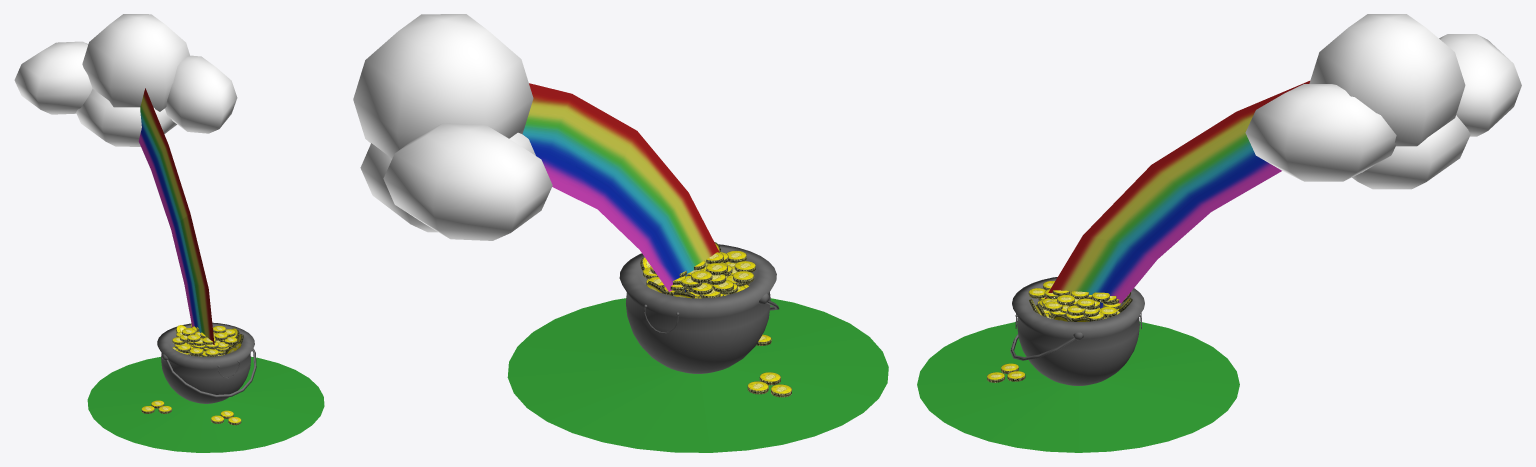
The model's file is GoldPotRainbow.glb.
3 views of the same model, side by side, from view 1: azimuth 30°, elevation 25°; view 2: azimuth 150°, elevation 25°; view 3: azimuth 270°, elevation 25° (orthographic). The views are drawn at different scales.
Visible parts, largest first — view 1: Cloud, Cone, Rainbow, Pot, Big Handle; view 2: Cone, Cloud, Rainbow, Pot; view 3: Cloud, Cone, Rainbow, Pot.
Part boxes in pixels (x1,y1,x2,y2): Cloud: (14,14,237,146); Cone: (87,356,324,452); Rainbow: (138,88,214,349); Pot: (157,322,254,403); Big Handle: (162,348,256,397); Cone: (507,298,888,452); Cloud: (353,14,552,240); Rainbow: (522,83,719,291); Pot: (619,244,776,373); Cloud: (1245,14,1521,189); Cone: (917,321,1239,452); Rainbow: (1045,81,1309,308); Pot: (1012,277,1144,385).
Size of the model in its own units: 1.79 by 2.37 by 3.28.
5 materials, 2 textured.
